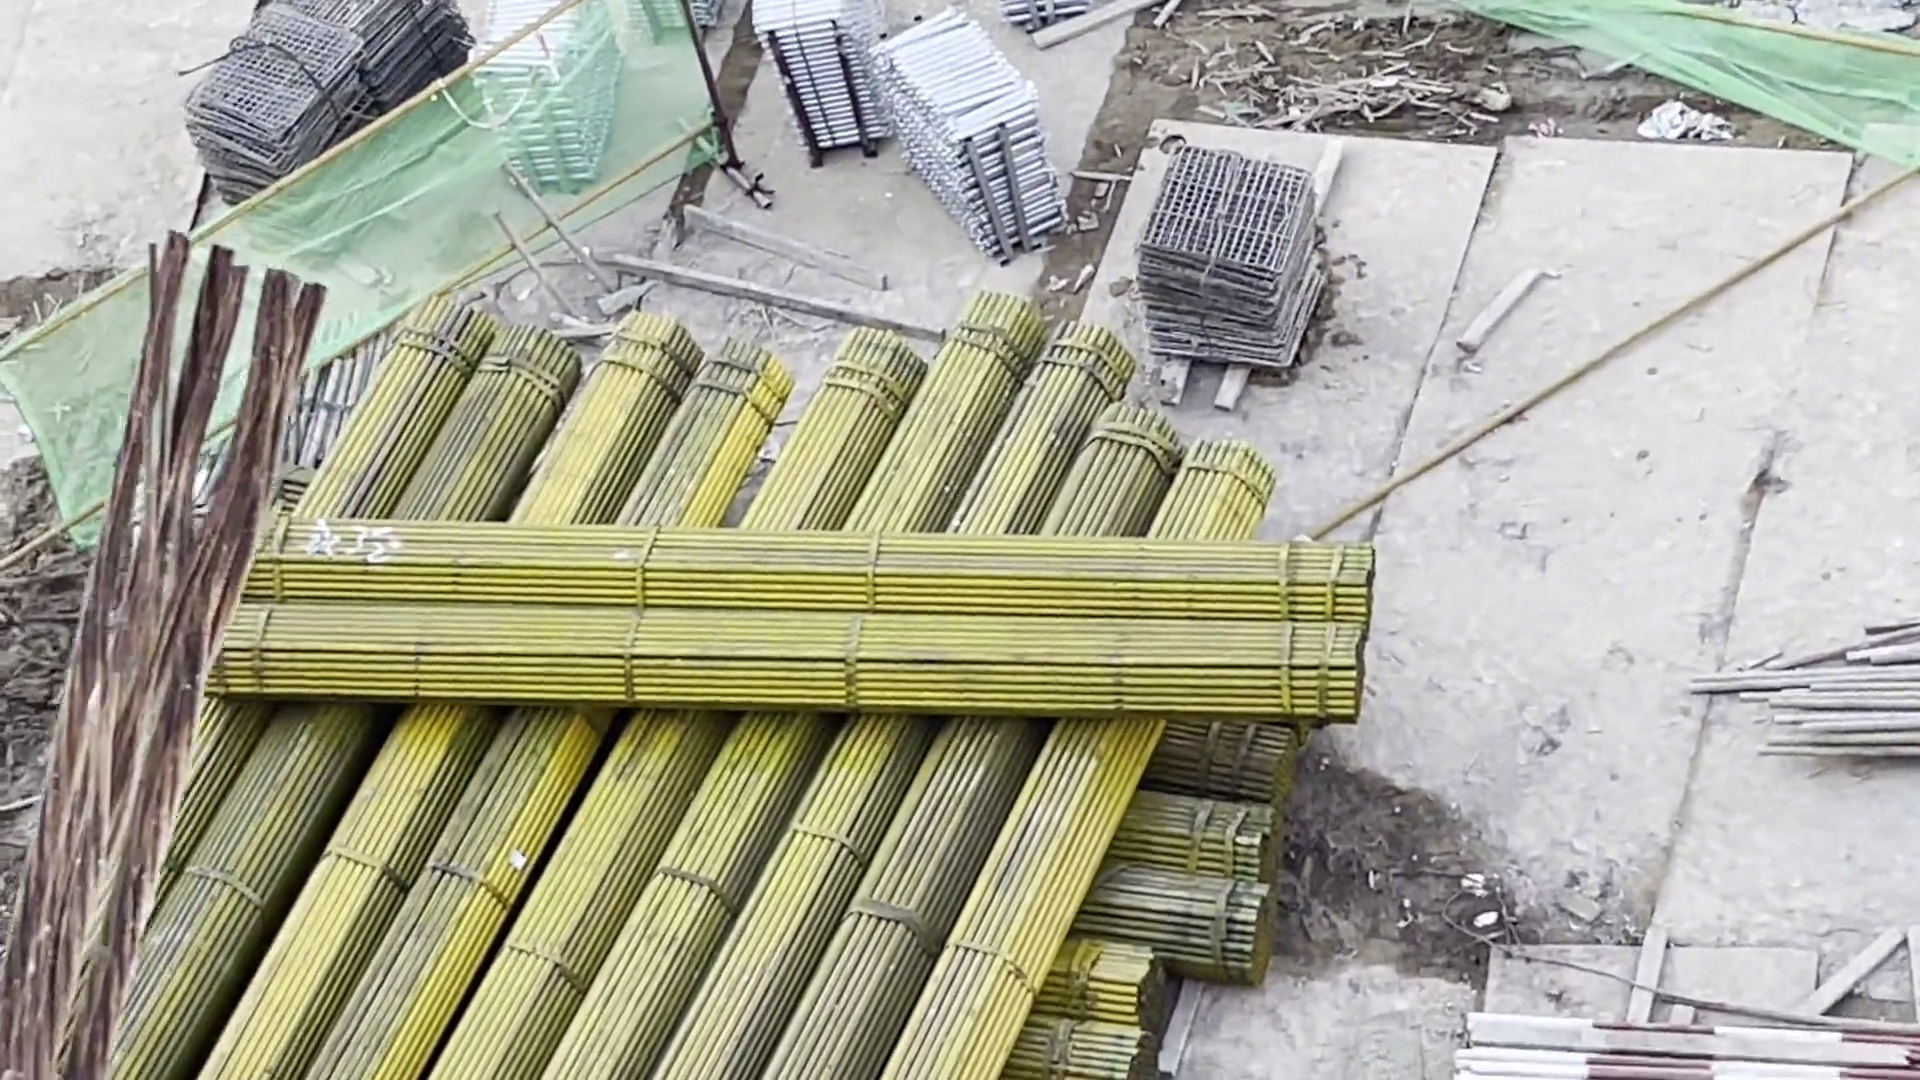scaffold: (856, 7, 1077, 272), (458, 1, 607, 174), (756, 1, 885, 175)
